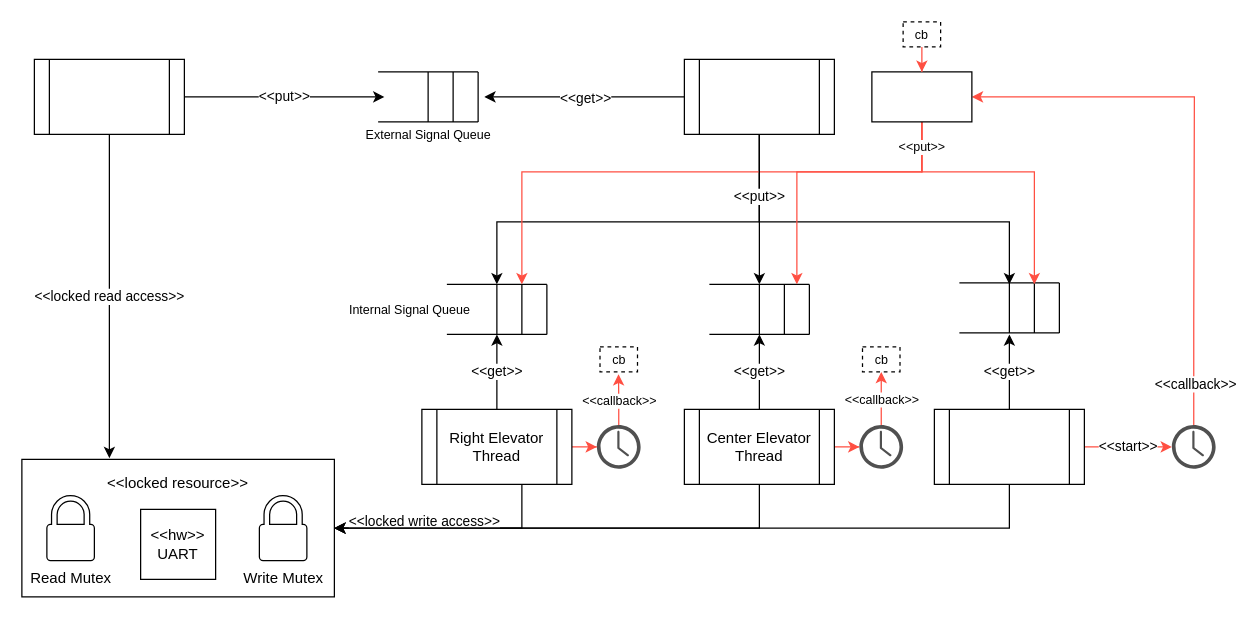
This 1258x619 diagram has some shape labels left out. Each missing label, with the centre of its shape:
"<<function>> Timer callback" goes at point 921,96.
"Fan-Out Thread" goes at point 758,96.
"Left Elevator Thread" goes at point 1008,446.
"Signal Handler Thread" goes at point 108,96.
